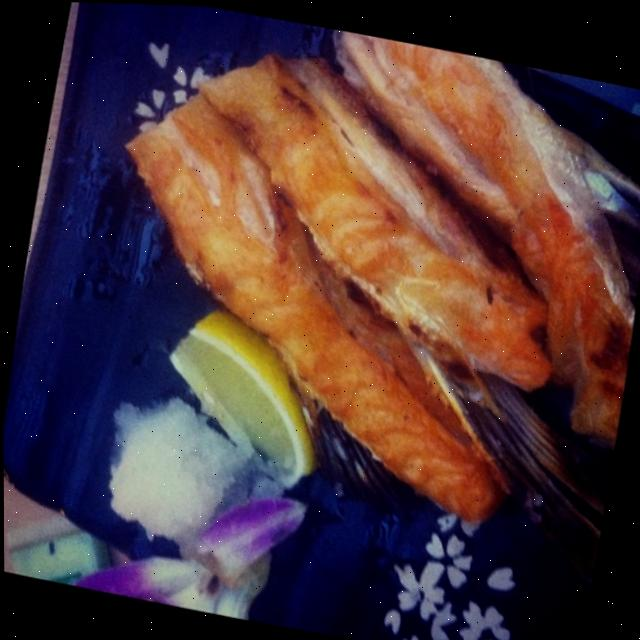熟制海鲜: (90, 14, 640, 510)
